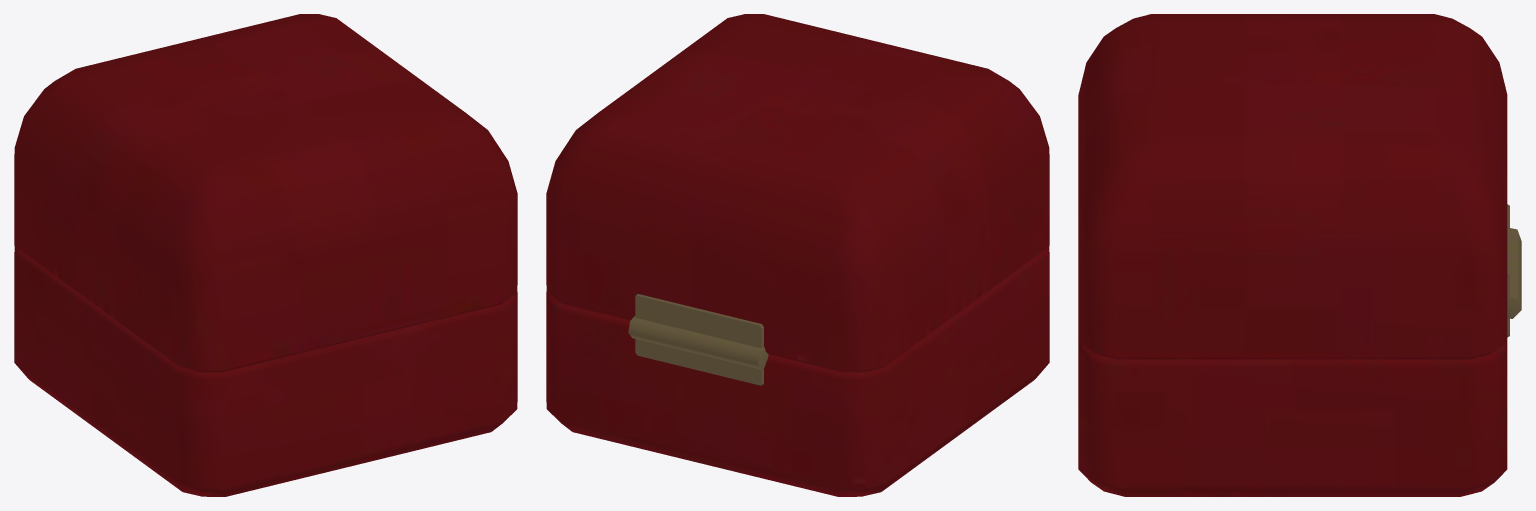
The picture shows the model from 3 angles, left to right: view 1: azimuth 30°, elevation 25°; view 2: azimuth 150°, elevation 25°; view 3: azimuth 270°, elevation 25°; orthographic projection. The views are drawn at different scales.
Bounding box in the file's own units: 2.69 × 2.32 × 2.78.
1 material, 1 textured.
